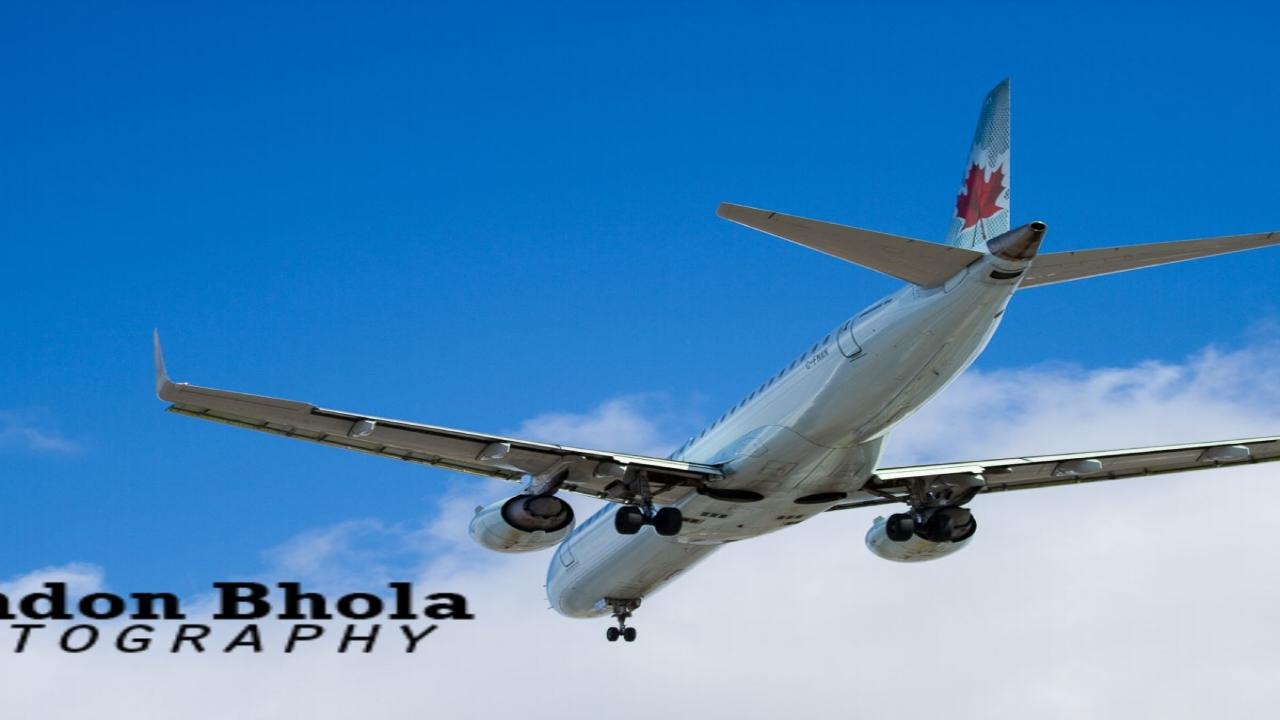Airplane: (129, 64, 1280, 654)
